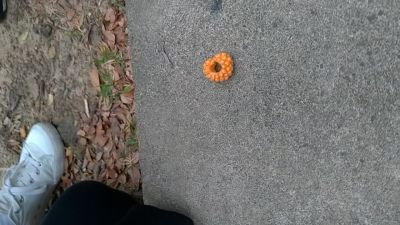eggs: (202, 52, 234, 83)
